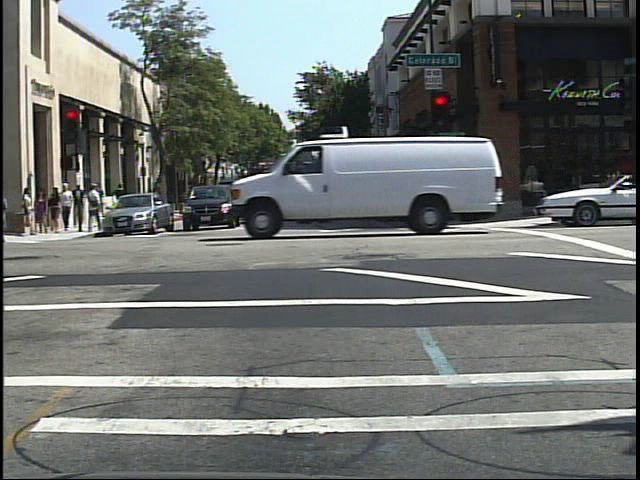person: (83, 180, 104, 233)
